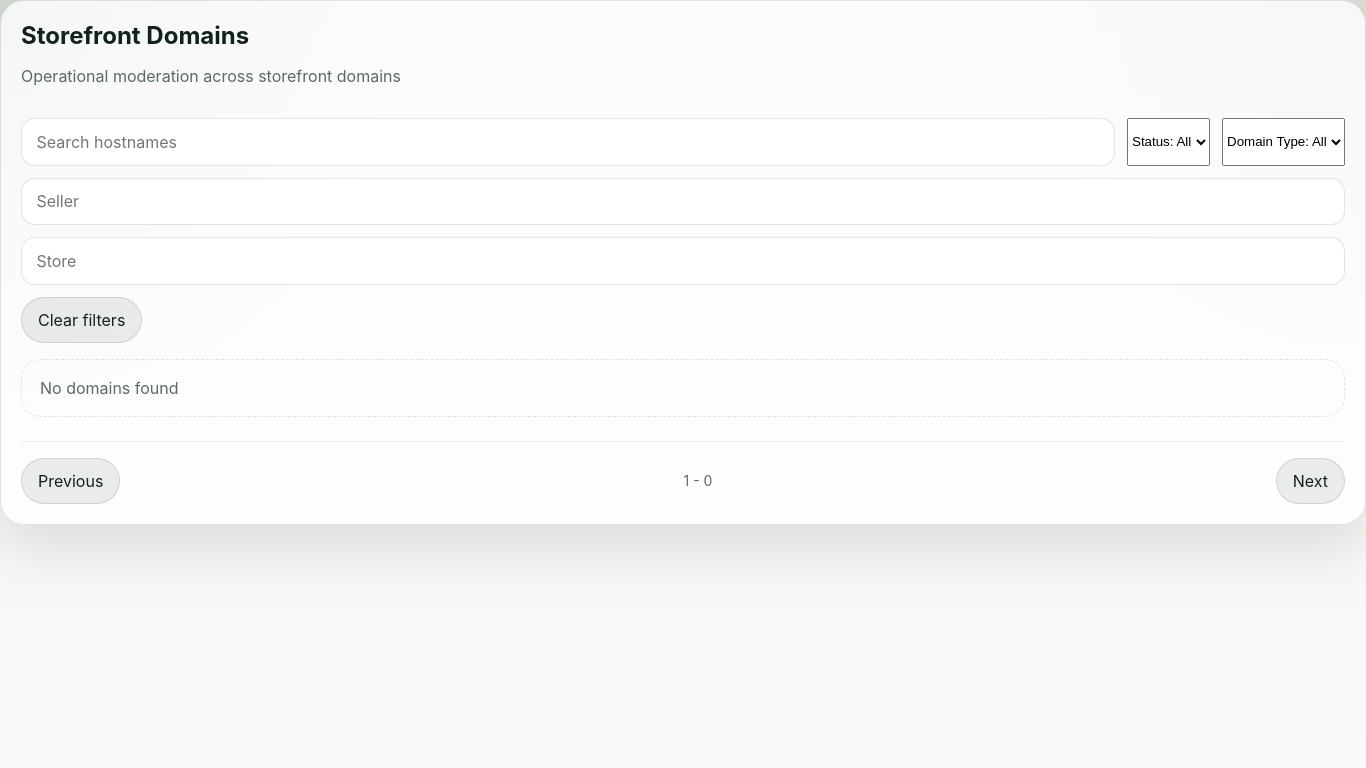
Test case: DomainModerationPanel › handles overlapping search requests deterministically with fake timers
Trigger Search A
Type "A" into the field with placeholder "Search hostnames". click: (568, 142)
box: [21,118,1115,166]
Wait 300 ms
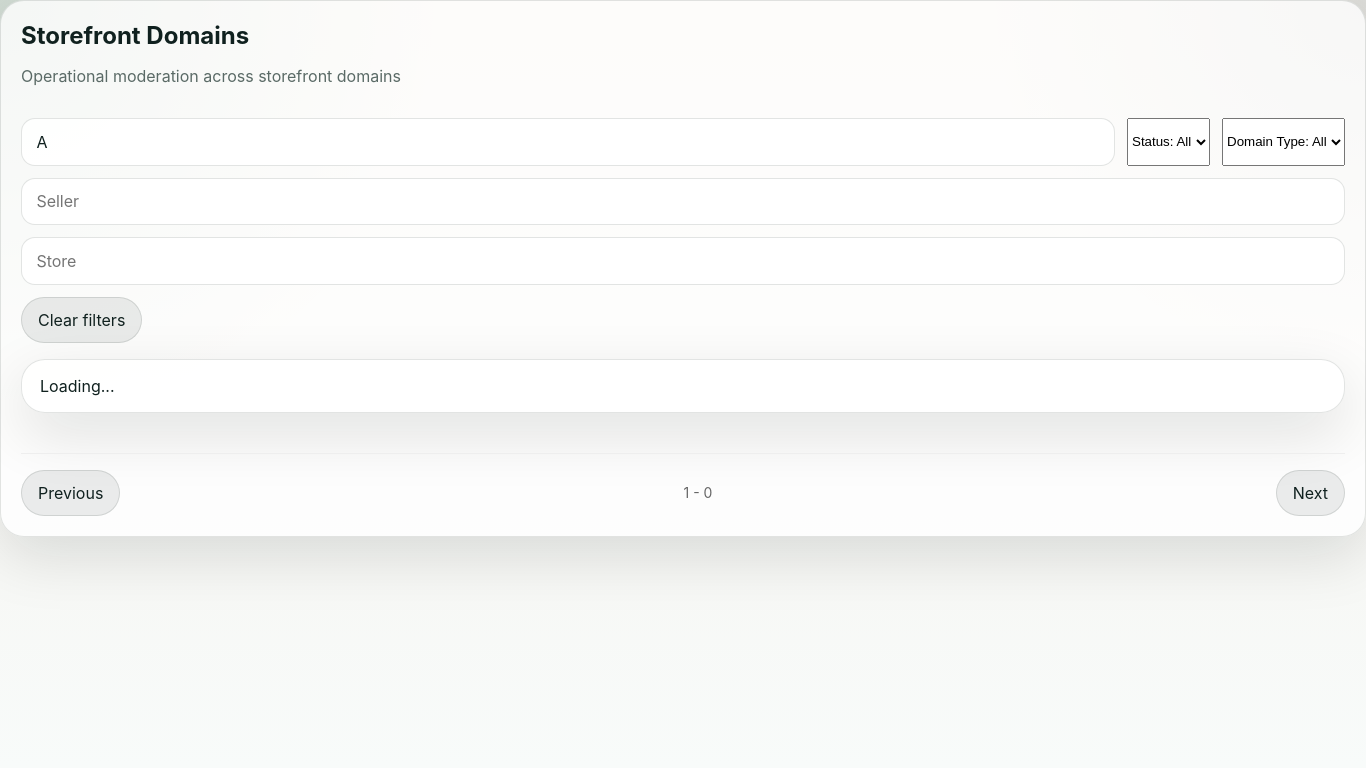
Trigger Search B
Replace the text in the field with placeholder "Search hostnames" with "B". click: (568, 142)
box: [21,118,1115,166]
Wait 300 ms
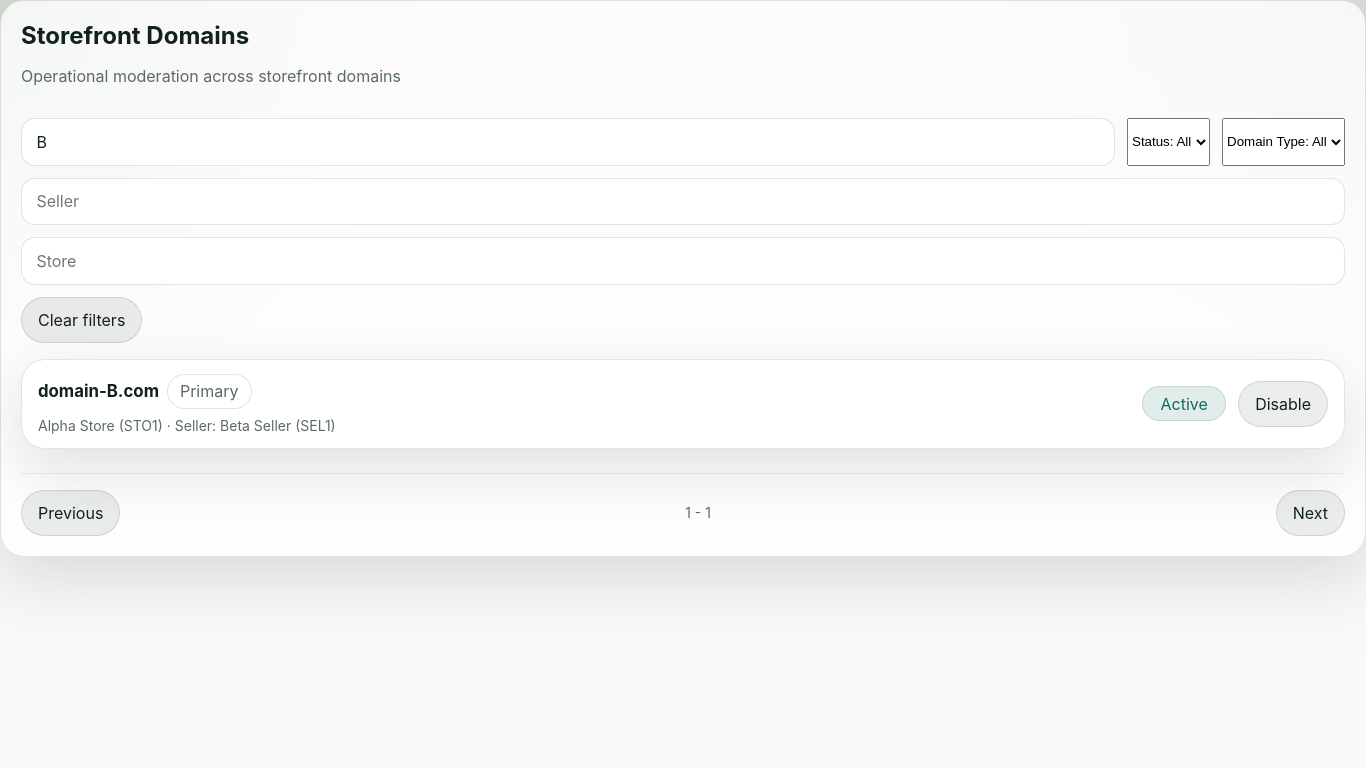
expect the text "domain-B.com" is shown: met, box [38,381,159,401]
